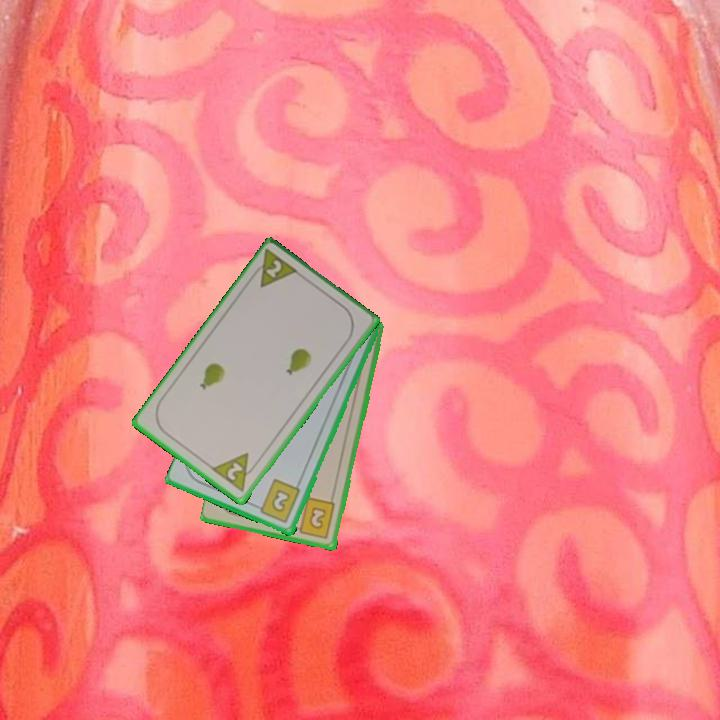2b: (252, 476, 304, 526), (290, 495, 338, 542)
2p: (209, 449, 262, 495), (248, 247, 302, 291)
